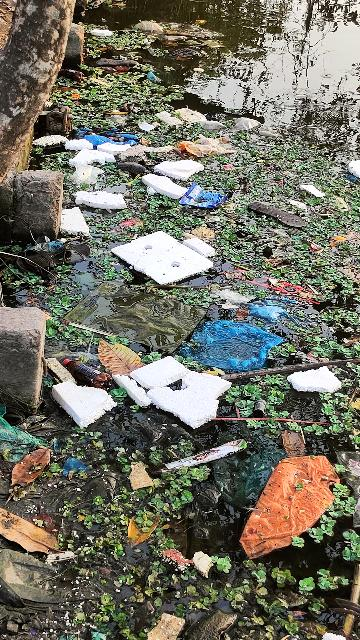cocksheet: (62, 143, 203, 290)
